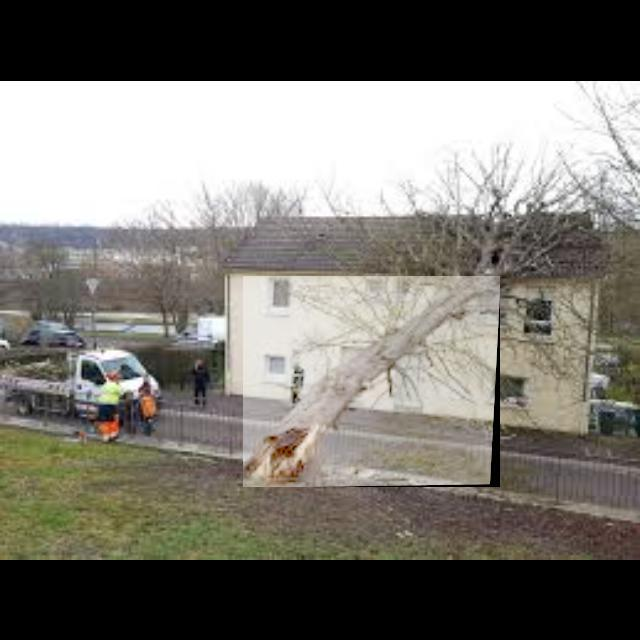fallen_tree: (243, 276, 501, 488)
